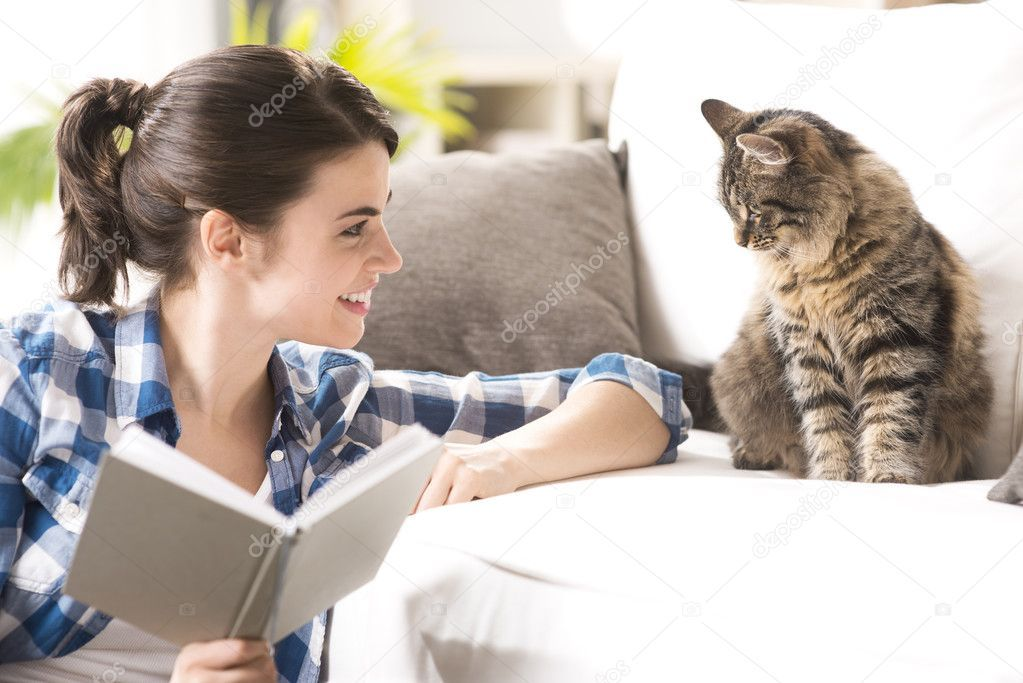cat: (688, 88, 895, 271)
person: (94, 40, 413, 383)
